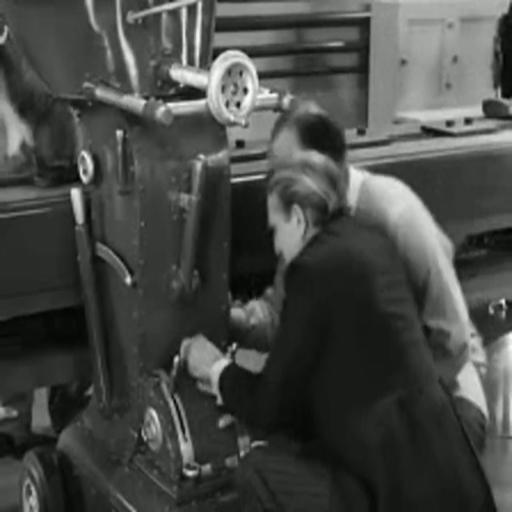nao-violencia: (174, 87, 498, 511)
